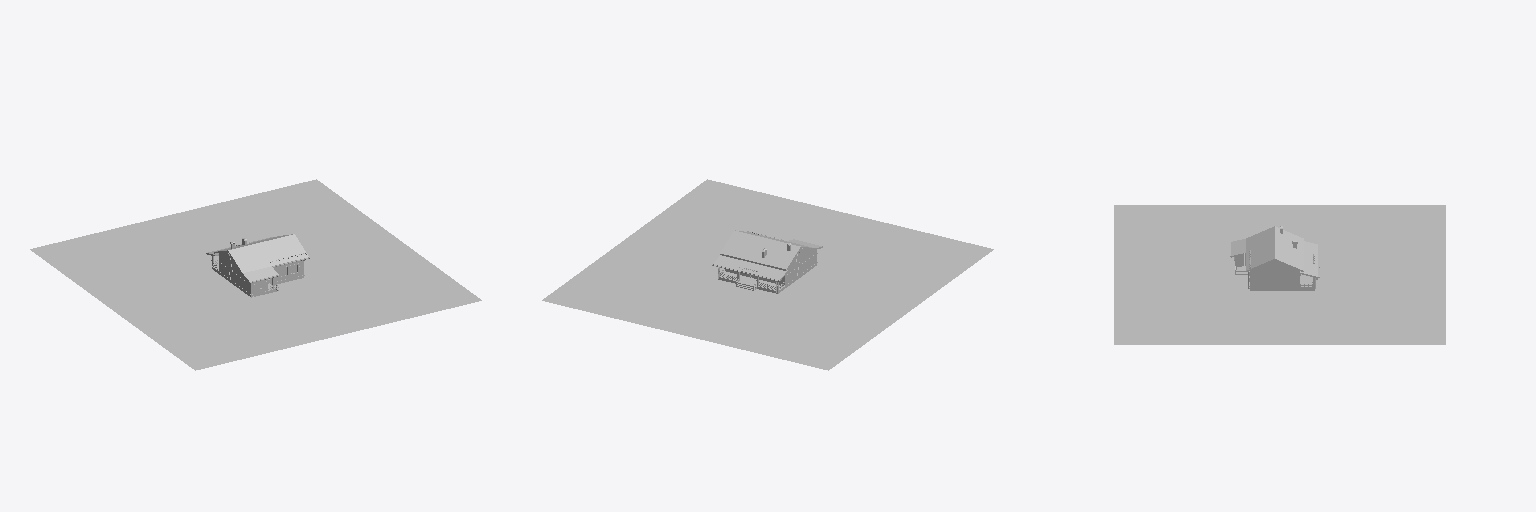
The model's file is Cottage_FREE.obj.
The picture shows the model from 3 angles: view 1: azimuth 30°, elevation 25°; view 2: azimuth 150°, elevation 25°; view 3: azimuth 270°, elevation 25°; orthographic projection.
Parts seen in each view (by area): view 1: Shadow_Catcher_Plane, Cottage_Free; view 2: Shadow_Catcher_Plane, Cottage_Free; view 3: Shadow_Catcher_Plane, Cottage_Free.
Boxes of the visible parts, x1=… form: Shadow_Catcher_Plane: x1=30, y1=179, x2=481, y2=370; Cottage_Free: x1=206, y1=234, x2=309, y2=297; Shadow_Catcher_Plane: x1=542, y1=179, x2=993, y2=370; Cottage_Free: x1=712, y1=230, x2=822, y2=293; Shadow_Catcher_Plane: x1=1114, y1=205, x2=1445, y2=344; Cottage_Free: x1=1230, y1=226, x2=1320, y2=290.
Size of the model in its own units: 53.59 by 6.78 by 53.59.